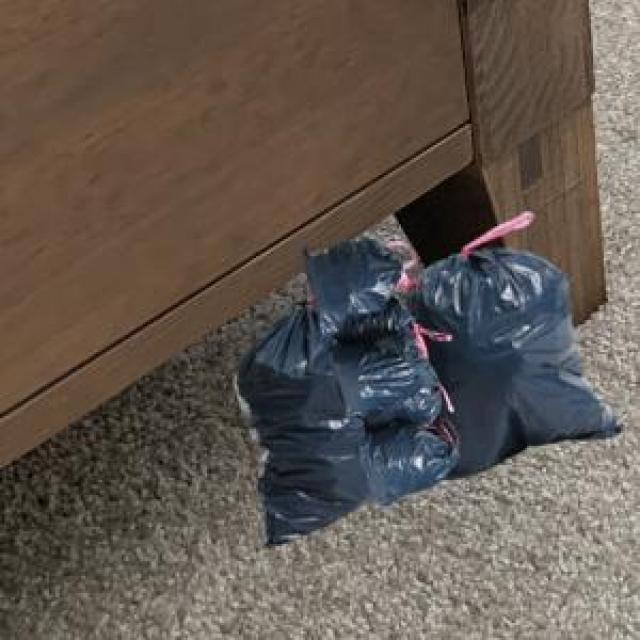Vinyl: (236, 214, 616, 543)
